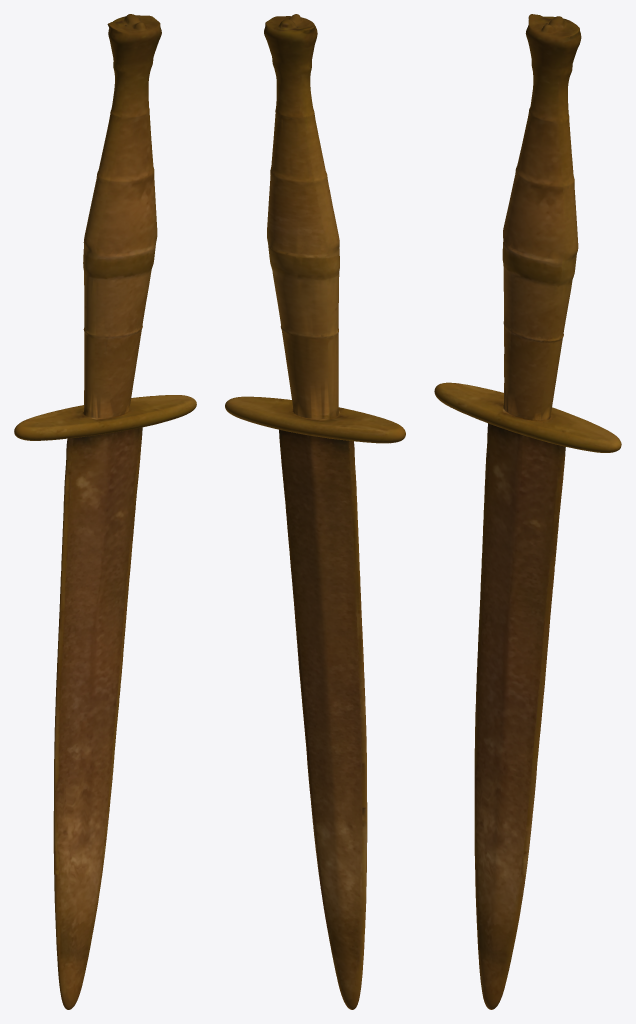
The picture shows the model from 3 angles, left to right: view 1: azimuth 30°, elevation 25°; view 2: azimuth 150°, elevation 25°; view 3: azimuth 330°, elevation 25°; orthographic projection. The views are drawn at different scales.
Visible parts, largest first — view 1: node_0; view 2: node_0; view 3: node_0.
Part boxes in pixels (x1,y1,x2,y2): node_0: [14, 14, 196, 1009]; node_0: [225, 14, 405, 1009]; node_0: [434, 14, 621, 1009].
Bounding box in the file's own units: 0.2297 × 1.2 × 0.0619.
1 material, 1 textured.
